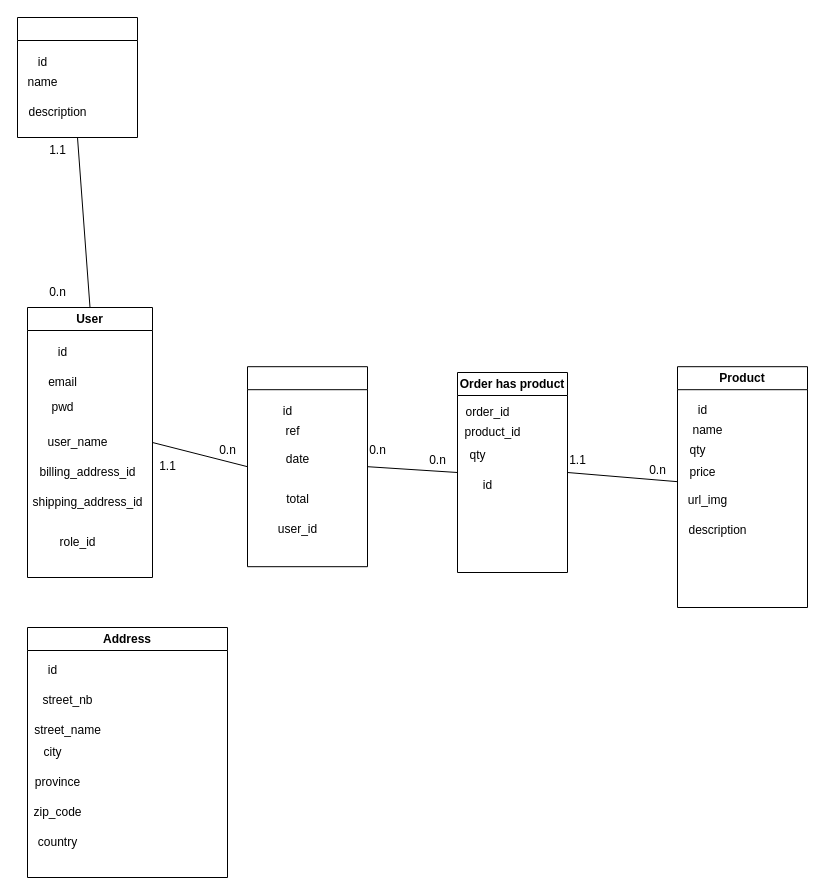
Some shapes in this 825 by 895 pixel diagram are drawn without their labels. Here are the shapes that lost their labels. From the top down, the box of each, then its label:
(16, 16, 138, 138): Role
(246, 366, 368, 567): billing_order
